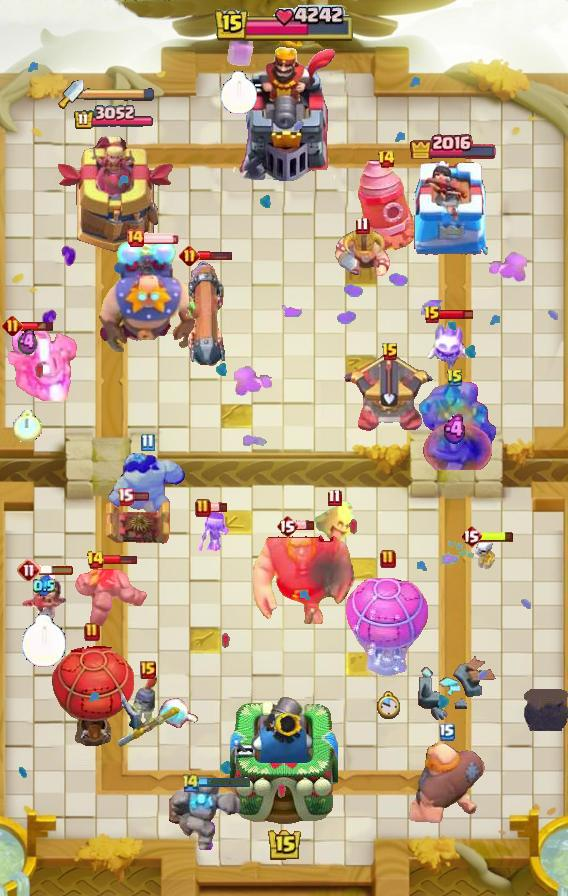baby-dragon: (524, 689, 568, 731)
balloon: (249, 526, 355, 624), (407, 741, 487, 829)
bar: (52, 132, 176, 256)
bat: (154, 696, 200, 732)
bat-evolution: (312, 499, 356, 543)
battle-healer: (182, 260, 230, 372)
cannon-cart: (344, 571, 432, 679), (50, 644, 134, 746)
cannoneer-tower: (410, 380, 500, 470)
clock: (213, 5, 355, 45)
electro-spirit: (442, 415, 470, 446), (19, 327, 38, 356), (33, 575, 55, 597)
elixir: (21, 614, 67, 668), (220, 71, 258, 115), (14, 410, 43, 442), (376, 691, 400, 720)
emote: (199, 776, 252, 788), (438, 307, 474, 320), (479, 529, 515, 542), (142, 232, 180, 244), (102, 554, 138, 566), (39, 564, 75, 576), (20, 320, 55, 332), (199, 250, 234, 261), (130, 490, 150, 501), (209, 502, 228, 513), (296, 521, 315, 532)
goblin: (194, 511, 230, 551)
goblin-brawler: (104, 498, 174, 548)
goblin-giant: (334, 226, 390, 280)
heal-spirit: (470, 538, 498, 570)
king-tower: (230, 45, 338, 181), (230, 692, 338, 826)
king-tower-bar: (84, 87, 156, 101)
knight-evolution: (225, 28, 254, 67)
lava-pup: (344, 351, 436, 433)
little-prince: (95, 239, 205, 355)
magic-archer: (356, 158, 416, 252)
mirror: (424, 316, 468, 370)
night-witch: (0, 325, 82, 401)
princess: (115, 676, 181, 748)
queen-tower: (407, 158, 499, 256)
rage: (106, 450, 188, 522)
selected: (410, 131, 499, 159), (73, 105, 155, 131)
skeleton-dragon: (19, 571, 69, 623)
text: (17, 558, 41, 582), (276, 514, 298, 538), (460, 524, 482, 548), (179, 245, 201, 266), (2, 315, 23, 336), (181, 771, 201, 793), (125, 228, 145, 248), (86, 550, 106, 570), (376, 149, 395, 169), (423, 305, 441, 325), (381, 342, 399, 362), (446, 368, 464, 388), (117, 486, 135, 505), (195, 498, 211, 518), (380, 549, 396, 569), (84, 622, 100, 642), (140, 661, 156, 679), (439, 723, 455, 741), (140, 433, 155, 452), (327, 489, 341, 508), (355, 217, 369, 235)
valkyrie-evolution: (169, 778, 245, 856), (73, 564, 149, 626)
